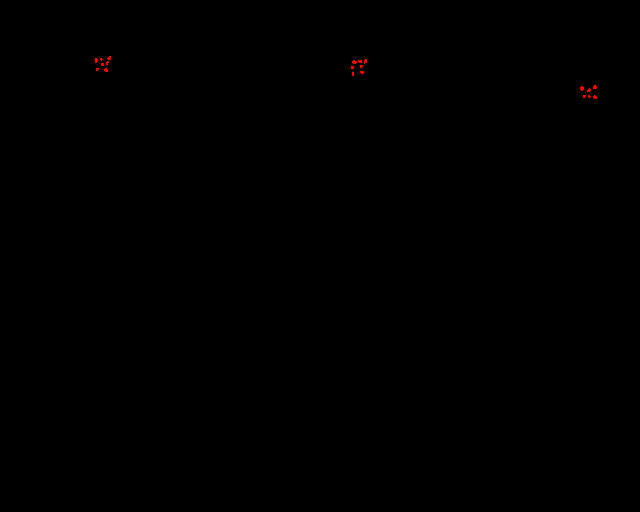Target: (352, 60, 357, 64), (580, 86, 584, 91), (107, 56, 111, 60), (104, 68, 108, 72), (593, 85, 597, 89), (587, 88, 591, 92), (593, 95, 597, 99), (95, 58, 98, 63), (364, 59, 367, 64), (358, 60, 362, 63), (106, 61, 109, 65), (360, 71, 364, 74), (100, 58, 103, 61), (101, 63, 104, 66), (360, 65, 363, 68), (351, 66, 354, 69), (96, 68, 99, 71), (583, 95, 586, 98), (588, 95, 591, 98), (352, 72, 354, 76)
